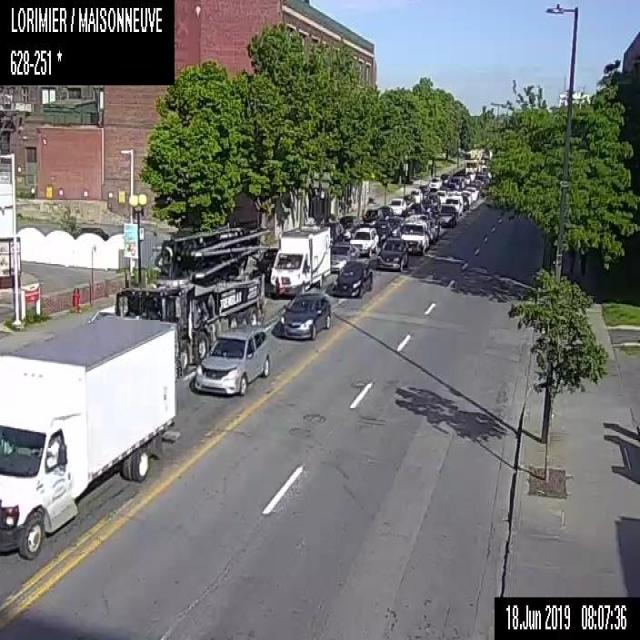vehicle: (0, 320, 175, 560), (113, 226, 264, 374), (194, 326, 270, 396), (269, 224, 331, 296), (278, 293, 329, 339), (334, 260, 372, 298), (376, 238, 407, 270), (400, 221, 429, 253), (329, 242, 357, 272), (350, 226, 378, 255), (258, 245, 278, 280), (87, 304, 115, 322), (374, 220, 391, 246), (438, 203, 456, 227), (324, 222, 343, 244), (340, 215, 358, 238), (423, 217, 438, 244), (359, 208, 382, 225), (445, 195, 463, 215), (389, 197, 405, 214), (465, 186, 478, 200), (460, 190, 472, 205), (448, 177, 461, 190), (410, 188, 422, 202), (428, 176, 442, 188), (436, 189, 446, 203), (440, 172, 450, 185), (460, 194, 468, 209)
